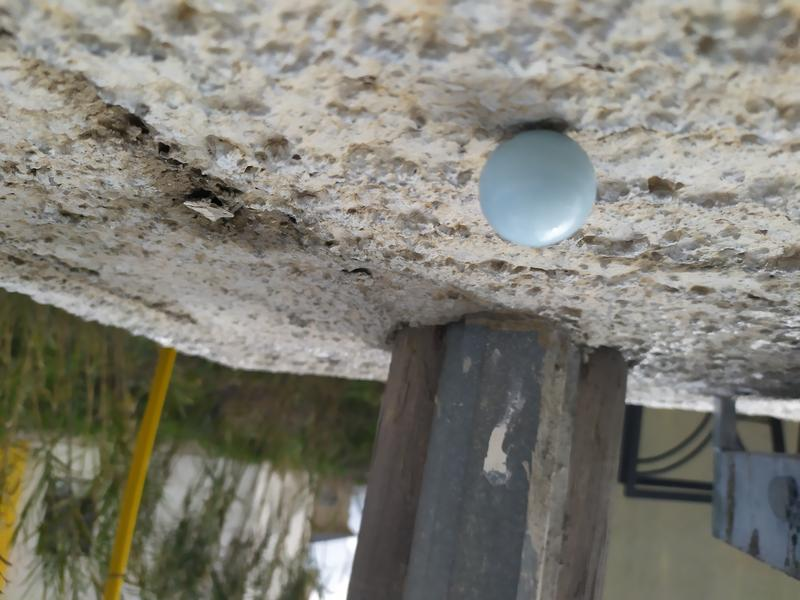Warning: (476, 126, 602, 250)
